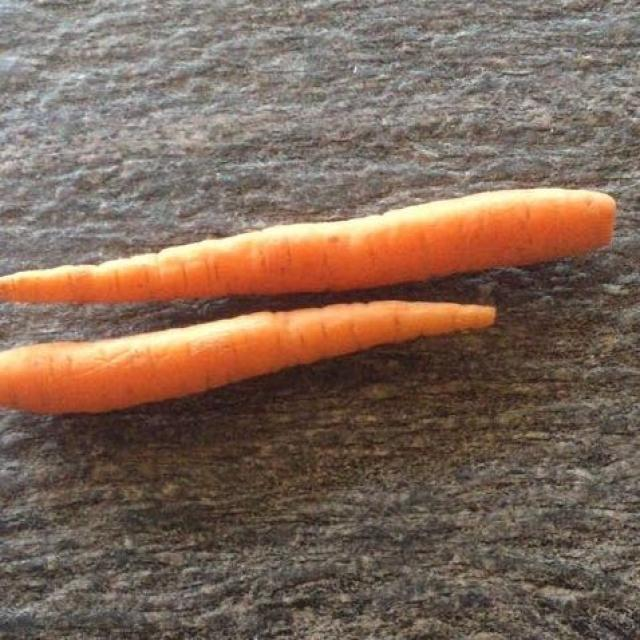carrot: (31, 195, 609, 408)
